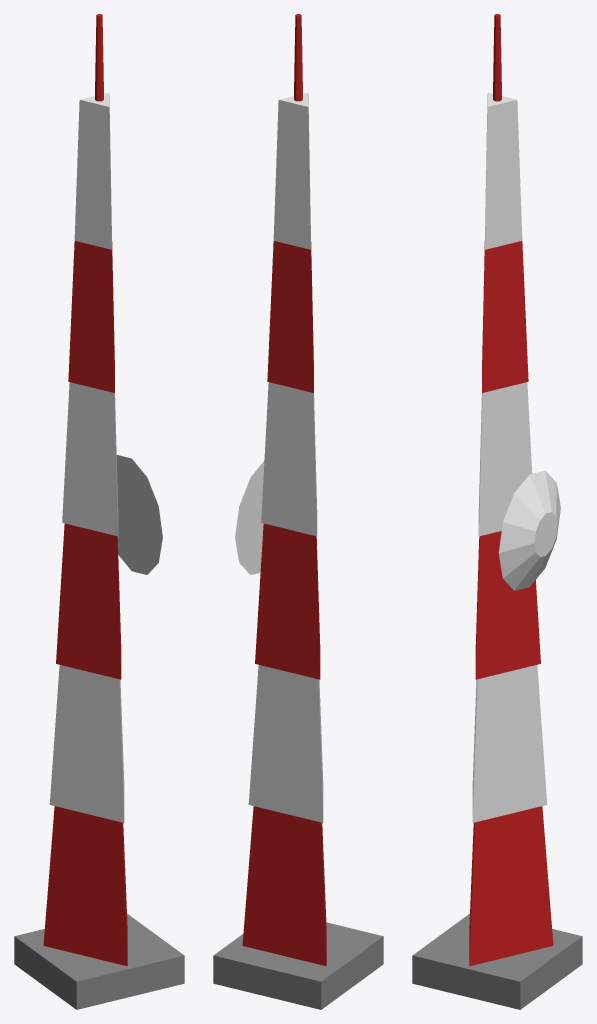
File: radio_antenna.glb
3 views of the same model, side by side, from view 1: azimuth 30°, elevation 25°; view 2: azimuth 150°, elevation 25°; view 3: azimuth 330°, elevation 25° (orthographic).
Parts seen in each view (by area): view 1: red_antenna_red, white_antenna_white, foot_antenna_foot, dish_antenna_white, tip_antenna_red; view 2: red_antenna_red, white_antenna_white, foot_antenna_foot, dish_antenna_white, tip_antenna_red; view 3: red_antenna_red, white_antenna_white, foot_antenna_foot, dish_antenna_white, tip_antenna_red.
Part boxes in pixels (bbox=[...]): red_antenna_red: bbox=[43, 241, 127, 966]; white_antenna_white: bbox=[49, 92, 124, 822]; foot_antenna_foot: bbox=[14, 913, 184, 1009]; dish_antenna_white: bbox=[116, 455, 162, 574]; tip_antenna_red: bbox=[95, 14, 103, 101]; red_antenna_red: bbox=[242, 241, 326, 966]; white_antenna_white: bbox=[248, 92, 323, 822]; foot_antenna_foot: bbox=[213, 922, 383, 1009]; dish_antenna_white: bbox=[235, 461, 264, 574]; tip_antenna_red: bbox=[294, 14, 302, 101]; red_antenna_red: bbox=[469, 241, 553, 966]; white_antenna_white: bbox=[472, 92, 547, 822]; foot_antenna_foot: bbox=[412, 913, 582, 1009]; dish_antenna_white: bbox=[498, 470, 560, 590]; tip_antenna_red: bbox=[493, 14, 501, 101].
Size of the model in its own units: 0.8 by 6.8 by 0.8.
